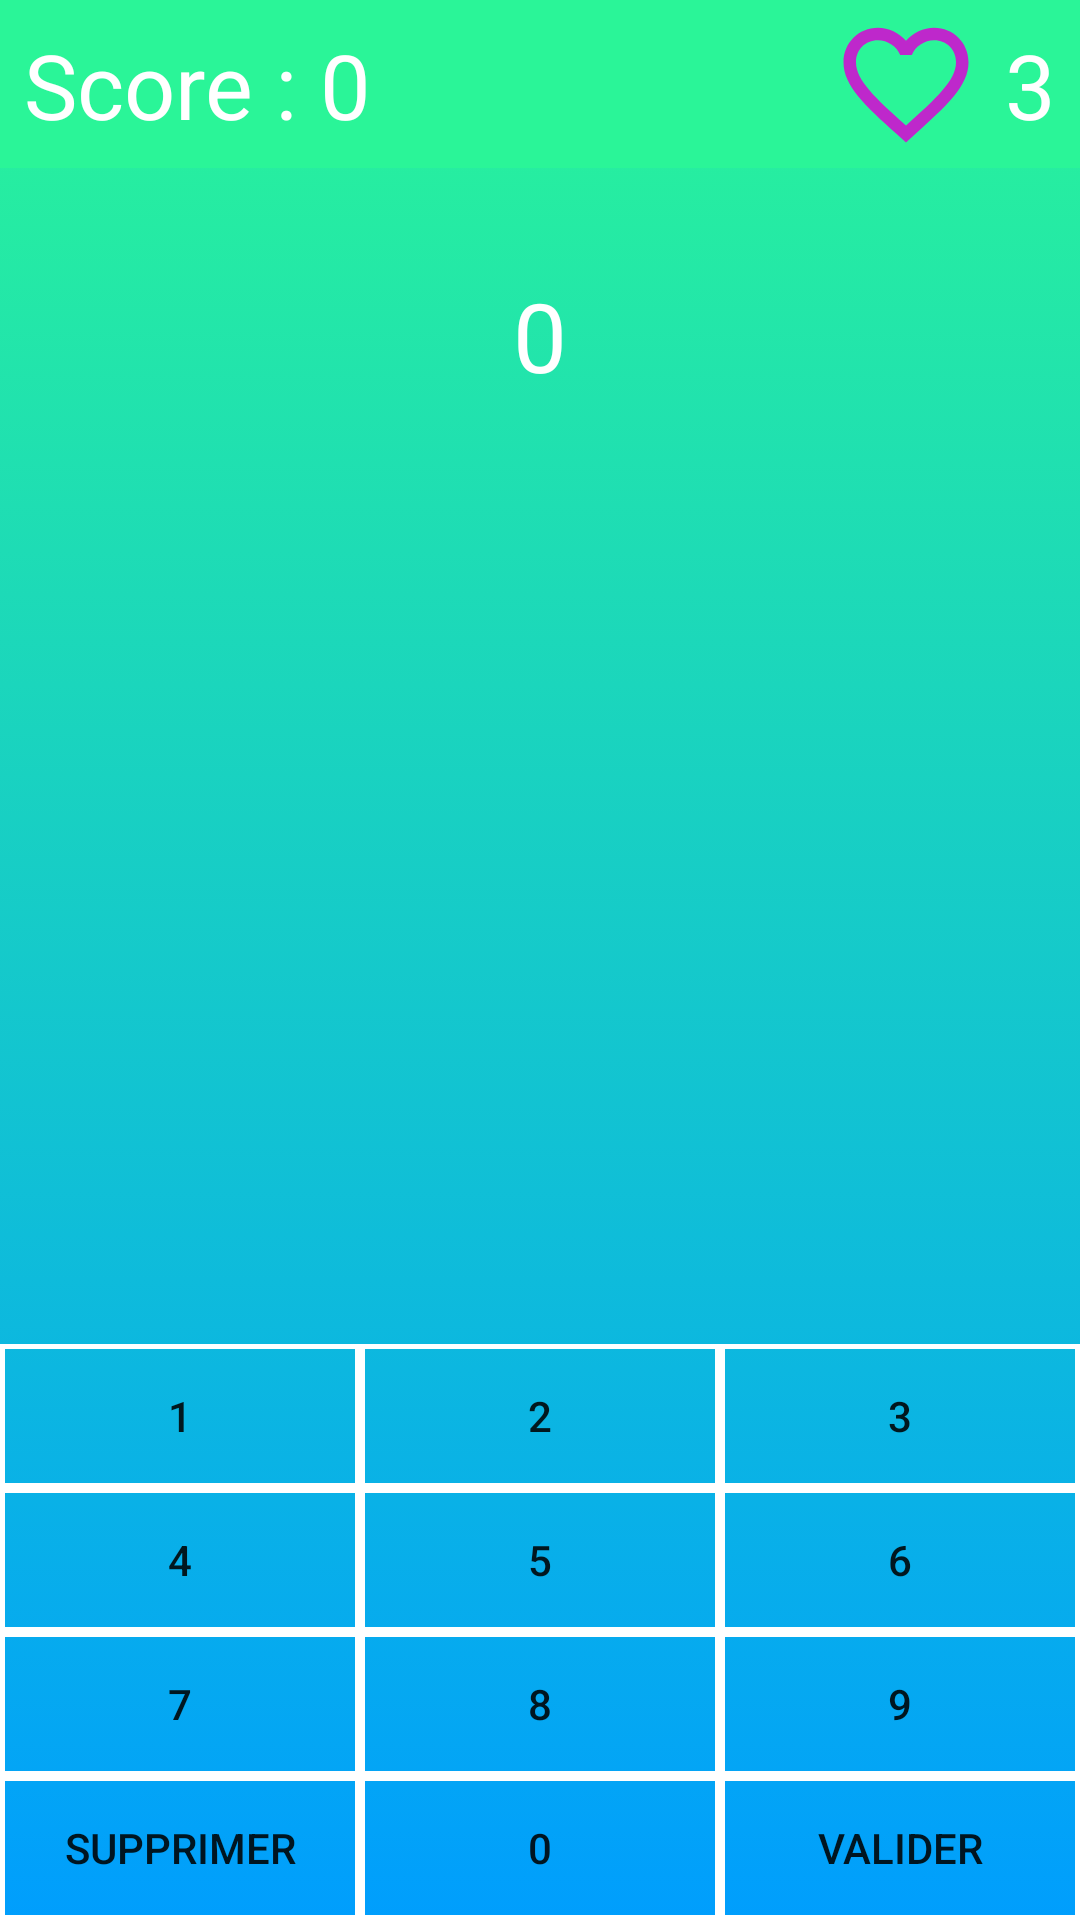

Screen size 1080*1920. Icon name, then its center in pixels as point (x, y):
favorite border: point (906, 85)
